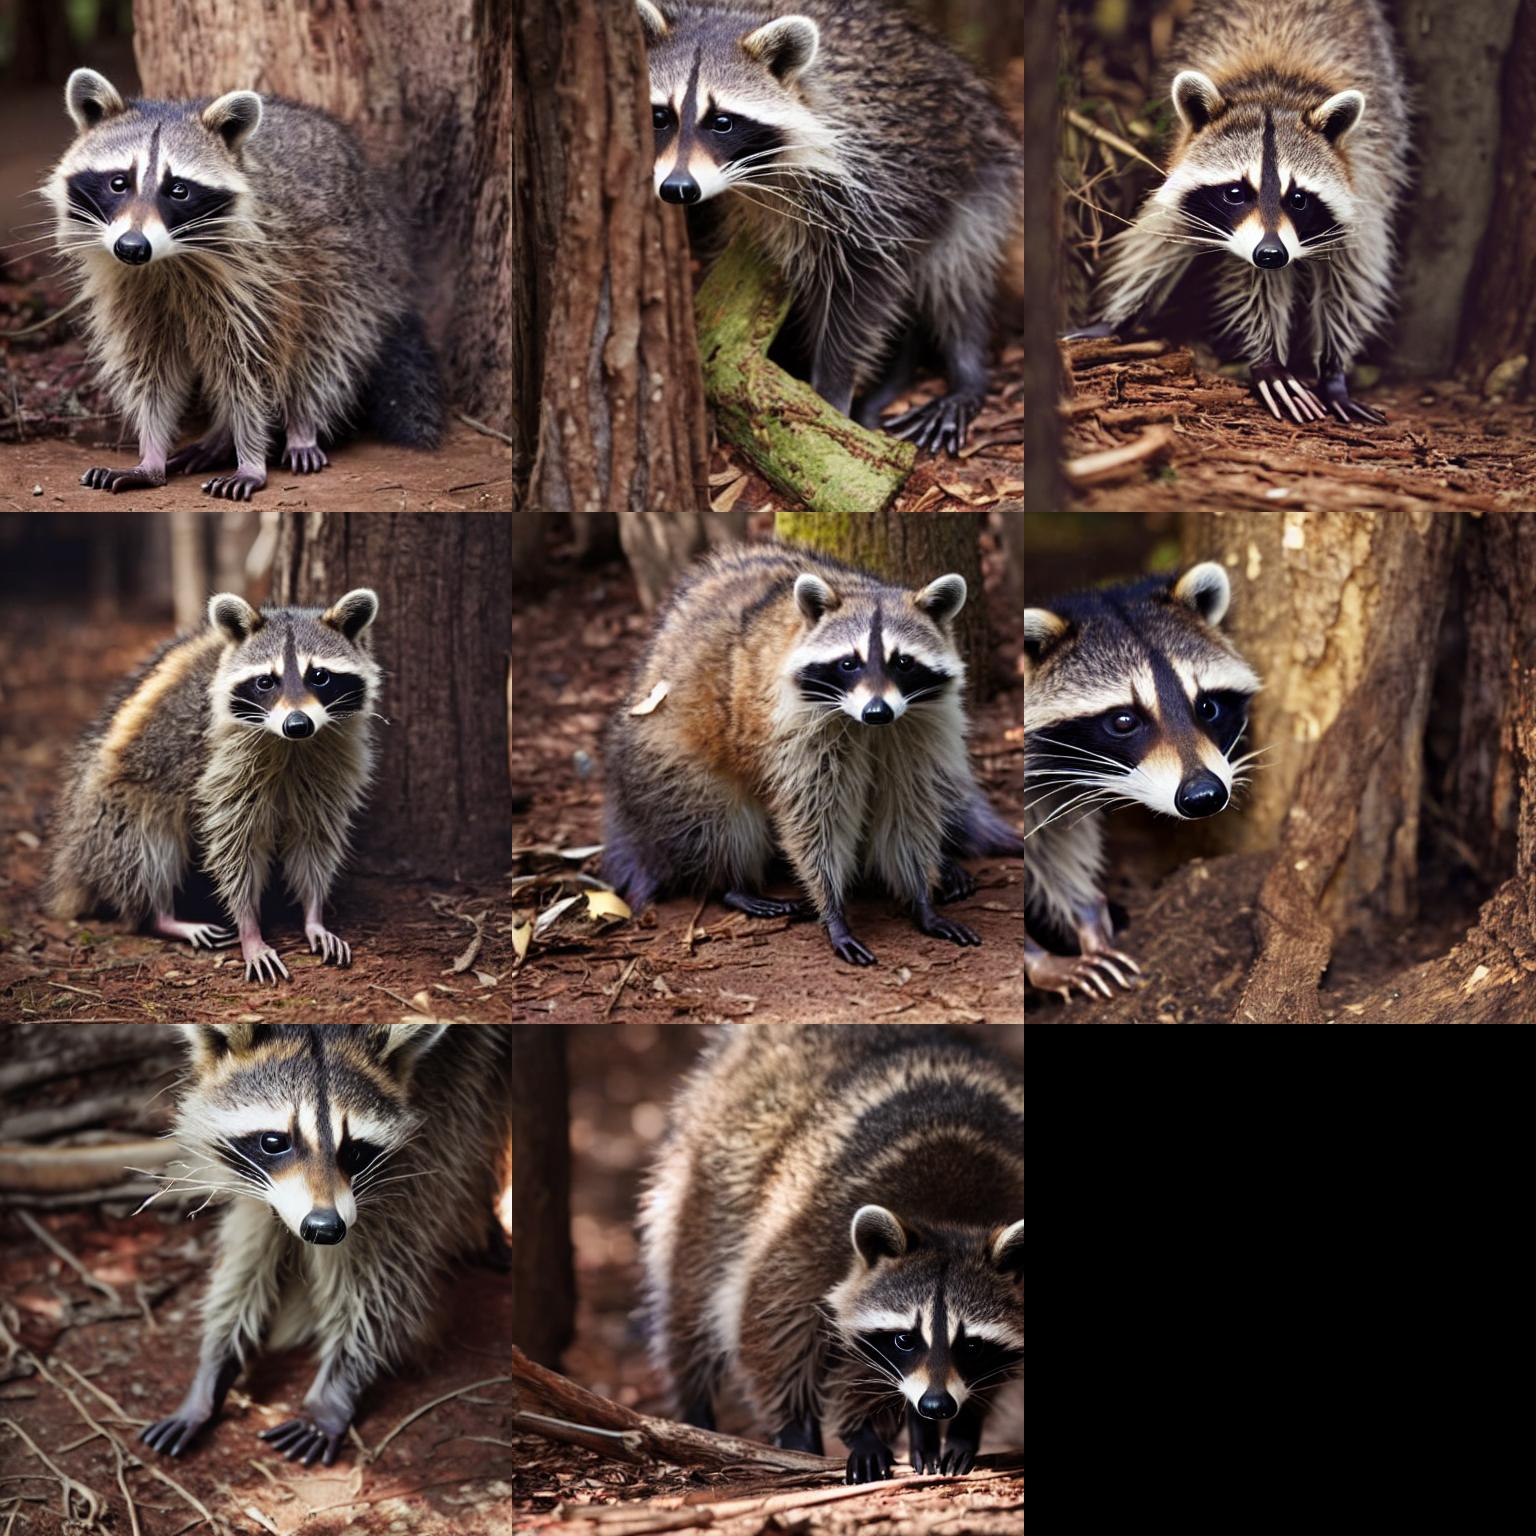raccoon: (30, 48, 453, 460), (580, 540, 997, 927), (637, 1032, 1027, 1425), (625, 0, 1025, 367), (38, 575, 392, 933), (141, 1023, 512, 1348), (1142, 0, 1415, 364), (1027, 556, 1277, 949)
